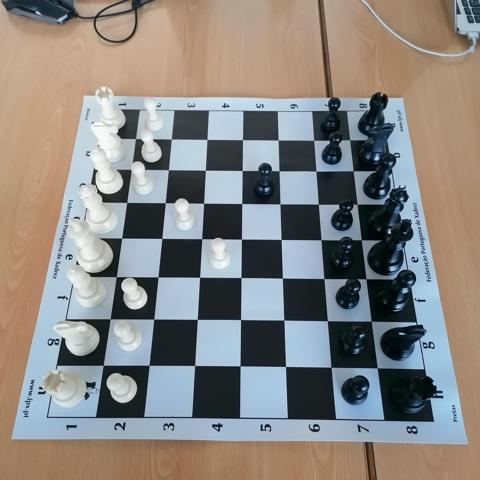xcorner: (270, 132, 287, 148), (235, 131, 251, 148), (274, 231, 290, 248), (154, 230, 170, 247), (359, 271, 376, 287), (317, 271, 334, 287), (187, 359, 203, 376), (95, 359, 112, 375), (342, 132, 358, 148), (306, 132, 322, 148), (199, 131, 215, 147), (164, 131, 180, 147), (128, 131, 144, 147), (346, 163, 362, 179), (309, 163, 325, 179), (272, 162, 288, 178), (235, 162, 251, 178), (198, 162, 214, 178), (161, 162, 177, 178), (124, 161, 140, 177), (350, 196, 366, 212), (311, 196, 327, 212), (273, 196, 289, 212), (234, 195, 250, 211), (196, 195, 212, 211), (158, 195, 174, 211), (119, 194, 135, 210), (354, 232, 370, 248), (314, 232, 330, 248), (234, 231, 250, 247), (194, 231, 210, 247), (114, 230, 130, 246), (276, 271, 292, 287), (234, 270, 250, 286), (192, 270, 208, 286), (150, 270, 166, 286), (108, 269, 124, 285), (365, 314, 381, 330), (321, 314, 337, 330), (277, 313, 293, 329), (233, 313, 249, 329), (190, 313, 206, 329), (146, 312, 162, 328), (102, 312, 118, 328), (371, 361, 387, 377), (325, 361, 341, 377), (279, 360, 295, 376), (233, 360, 249, 376), (141, 359, 157, 375)
